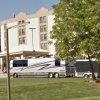Tree: (50, 1, 100, 76)
